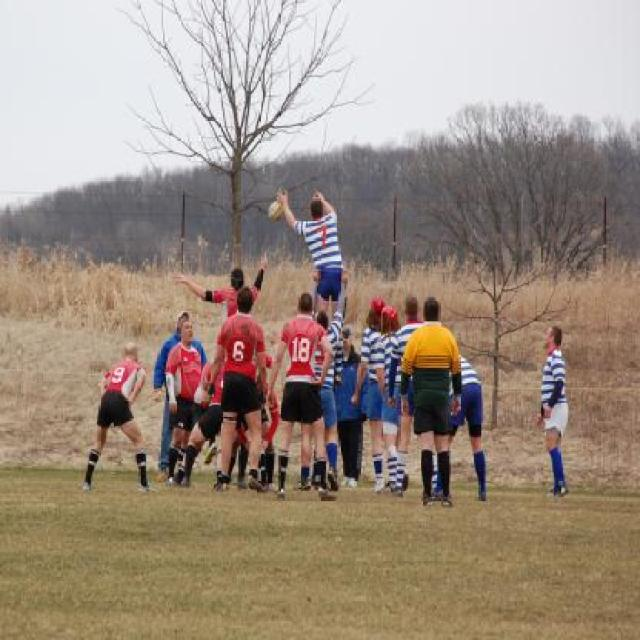Person: (84, 192, 488, 510), (540, 316, 582, 499)
